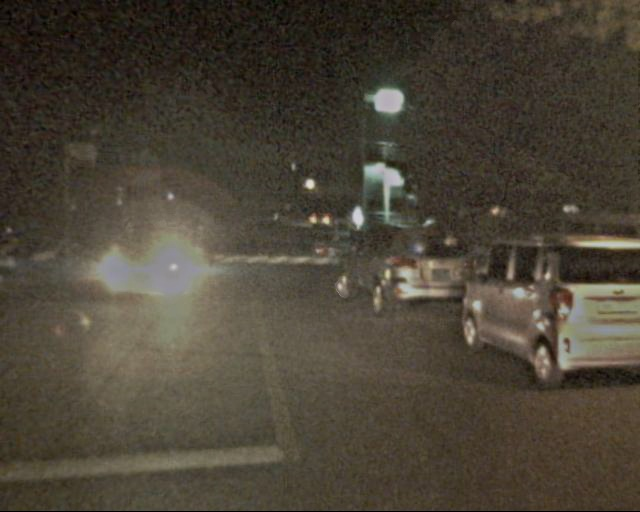person: (340, 214, 366, 269)
